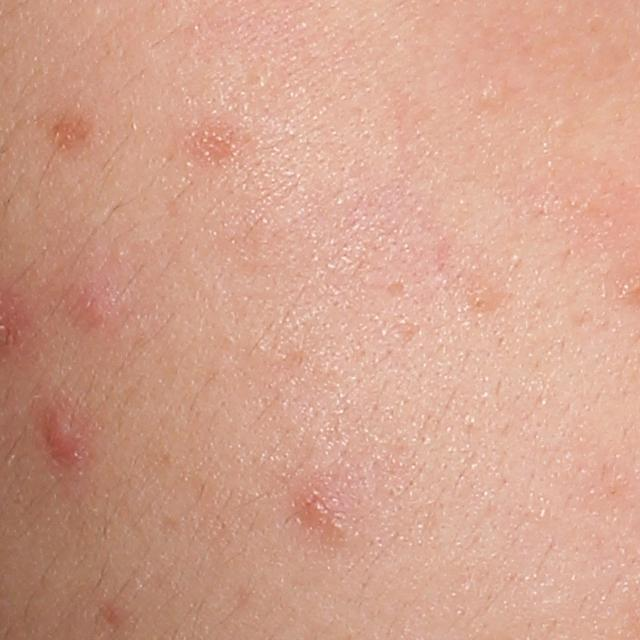atrophic_scar: (381, 280, 409, 298)
comedo: (466, 283, 497, 315)
papule: (288, 472, 359, 551), (60, 255, 122, 326), (37, 396, 89, 467)
